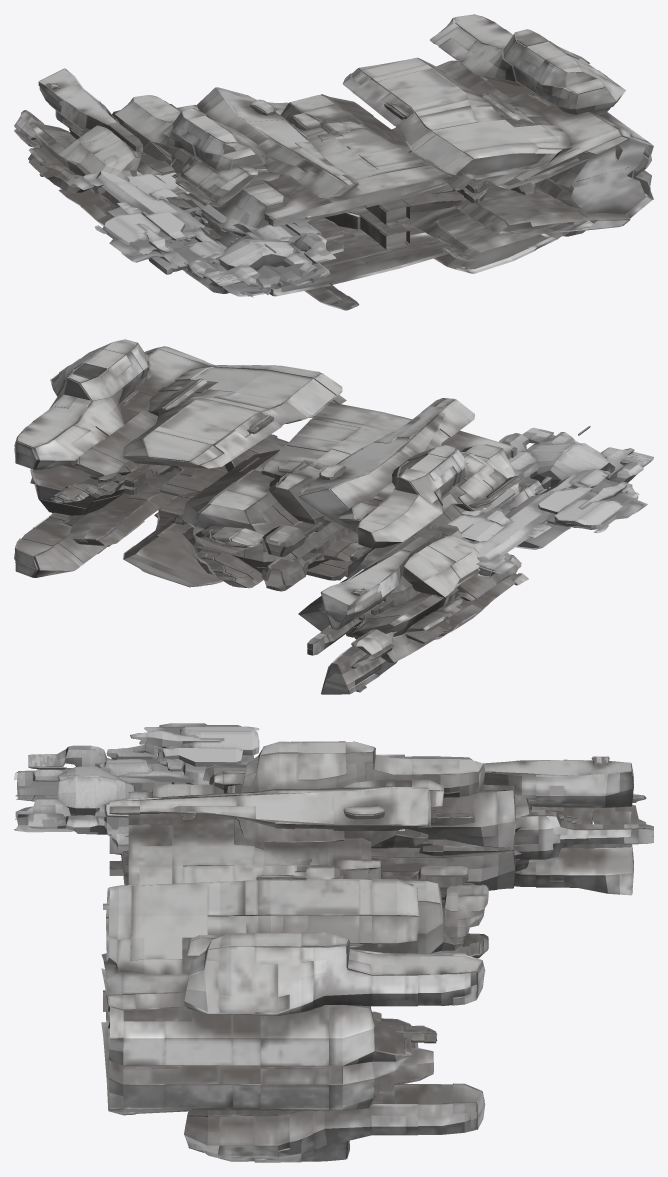
The model's file is MOTHERSHIP_009.fbx.
The picture shows the model from 3 angles, top to bottom: view 1: azimuth 30°, elevation 25°; view 2: azimuth 150°, elevation 25°; view 3: azimuth 270°, elevation 25°; orthographic projection. The views are drawn at different scales.
Visible parts, largest first — view 1: MOTHERSHIP_009; view 2: MOTHERSHIP_009; view 3: MOTHERSHIP_009.
Part boxes in pixels (x1,y1,x2,y2): MOTHERSHIP_009: [14, 14, 653, 310]; MOTHERSHIP_009: [14, 339, 653, 694]; MOTHERSHIP_009: [14, 723, 653, 1162].
Size of the model in its own units: 109 by 33.95 by 91.25.
